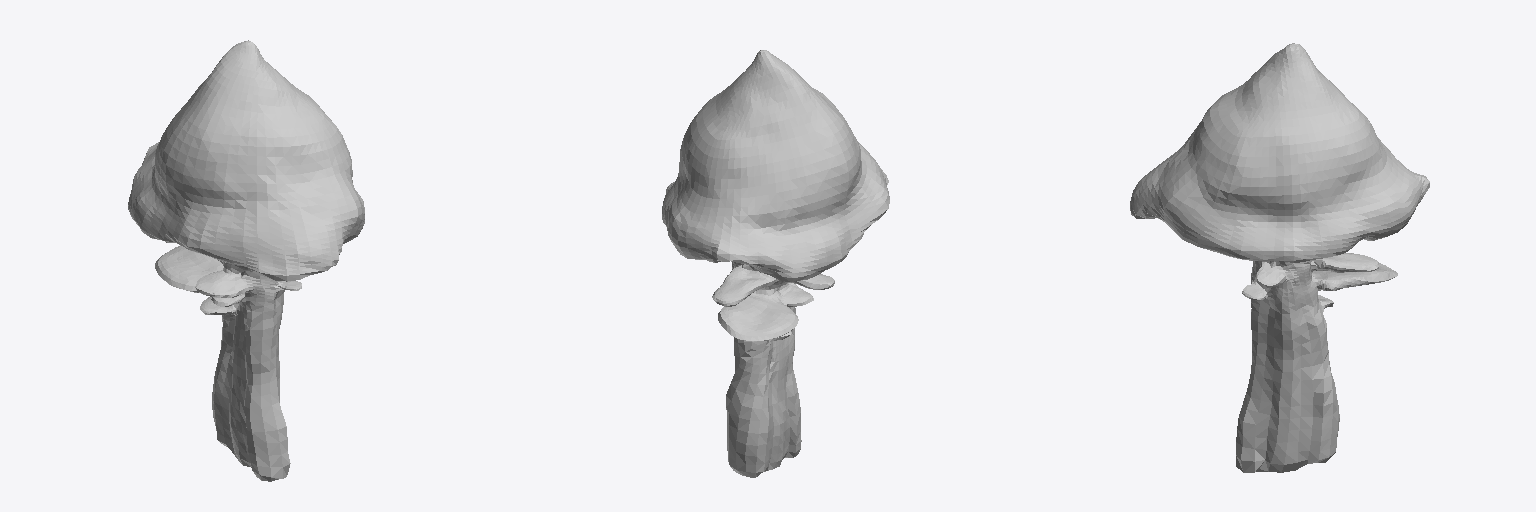
File: PilzBaum.obj
The picture shows the model from 3 angles: view 1: azimuth 30°, elevation 25°; view 2: azimuth 150°, elevation 25°; view 3: azimuth 270°, elevation 25°; orthographic projection.
Parts seen in each view (by area): view 1: PilzBaum; view 2: PilzBaum; view 3: PilzBaum.
Part boxes in pixels (left/top/right/bottom): PilzBaum: left=128, top=40, right=364, bottom=481; PilzBaum: left=662, top=50, right=889, bottom=477; PilzBaum: left=1130, top=43, right=1429, bottom=472.
Bounding box in the file's own units: 3.79 × 8.03 × 5.2.